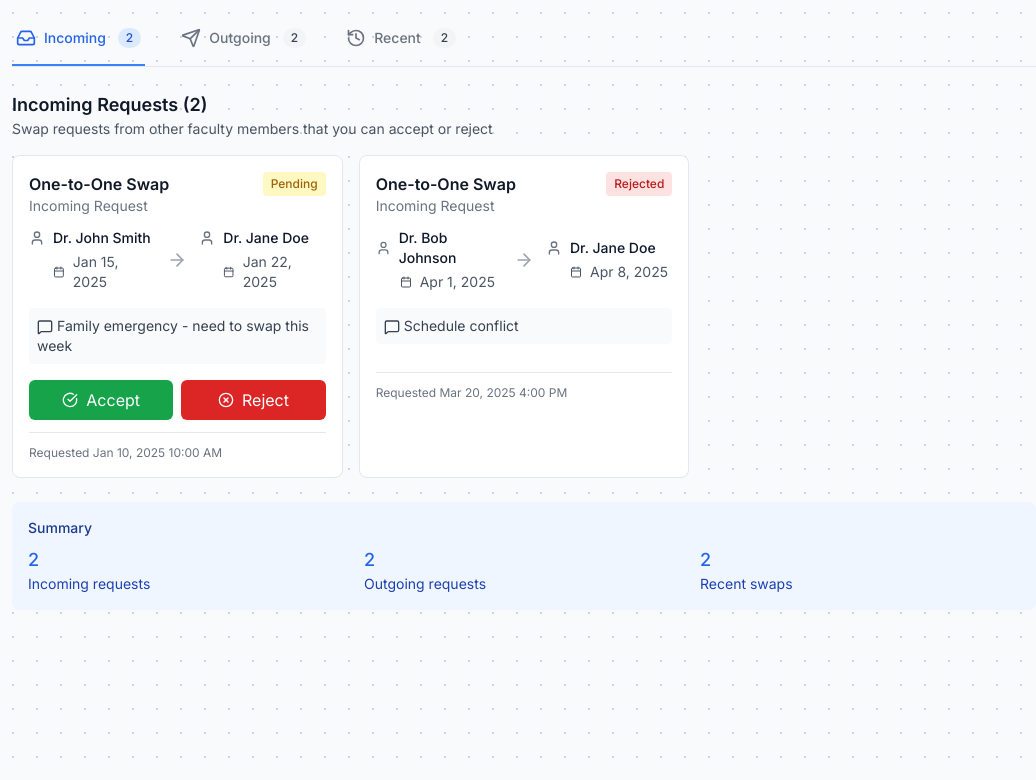
Test: MySwapRequests › Outgoing Tab › should display outgoing requests when tab is clicked
This screenshot has width=1036, height=780.
Click the tab "Outgoing 2": click(244, 39) left=177, top=12, right=310, bottom=66
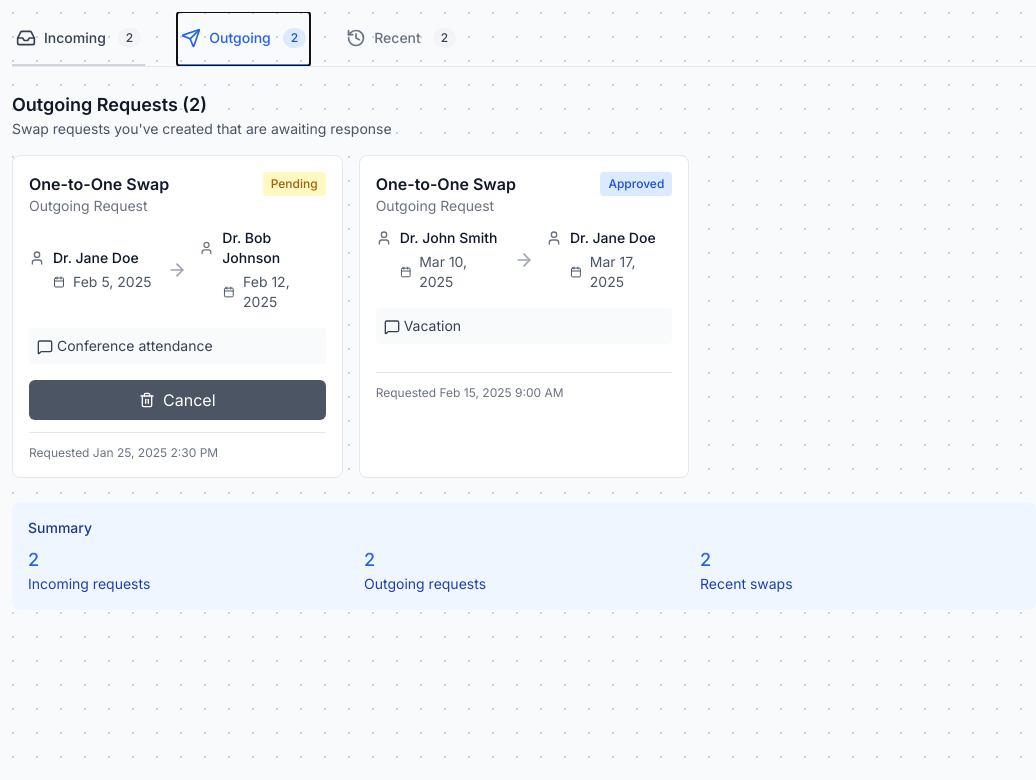
Now the heading "Outgoing Requests (2)" is shown, box left=12, top=94, right=207, bottom=115
Now the text "Swap requests you've created that are awaiting response" is shown, box left=12, top=120, right=392, bottom=137
